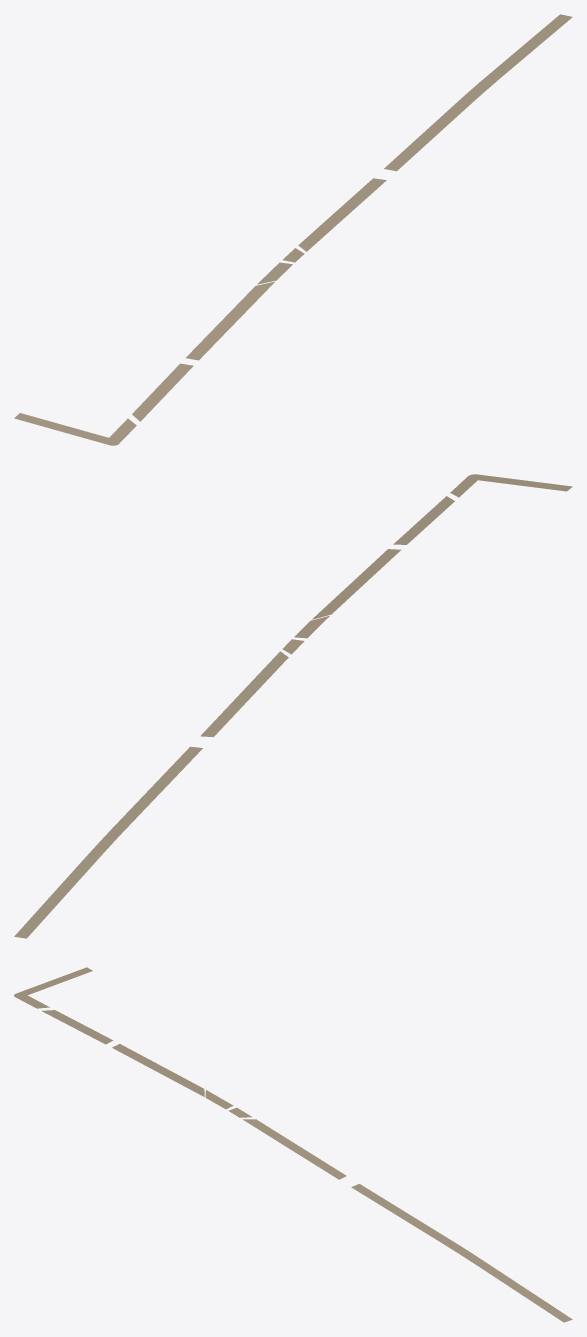
Rendered from farm_22_22_track.glb.
3 renders of one model, top to bottom at view 1: azimuth 30°, elevation 25°; view 2: azimuth 210°, elevation 25°; view 3: azimuth 270°, elevation 25°, orthographic. The views are drawn at different scales.
Parts seen in each view (by area): view 1: geometry_0; view 2: geometry_0; view 3: geometry_0.
Part boxes in pixels (x1,y1,x2,y2): geometry_0: [14, 14, 572, 445]; geometry_0: [14, 474, 572, 938]; geometry_0: [14, 967, 572, 1322].
Size of the model in its own units: 234 by 6.98 by 164.
